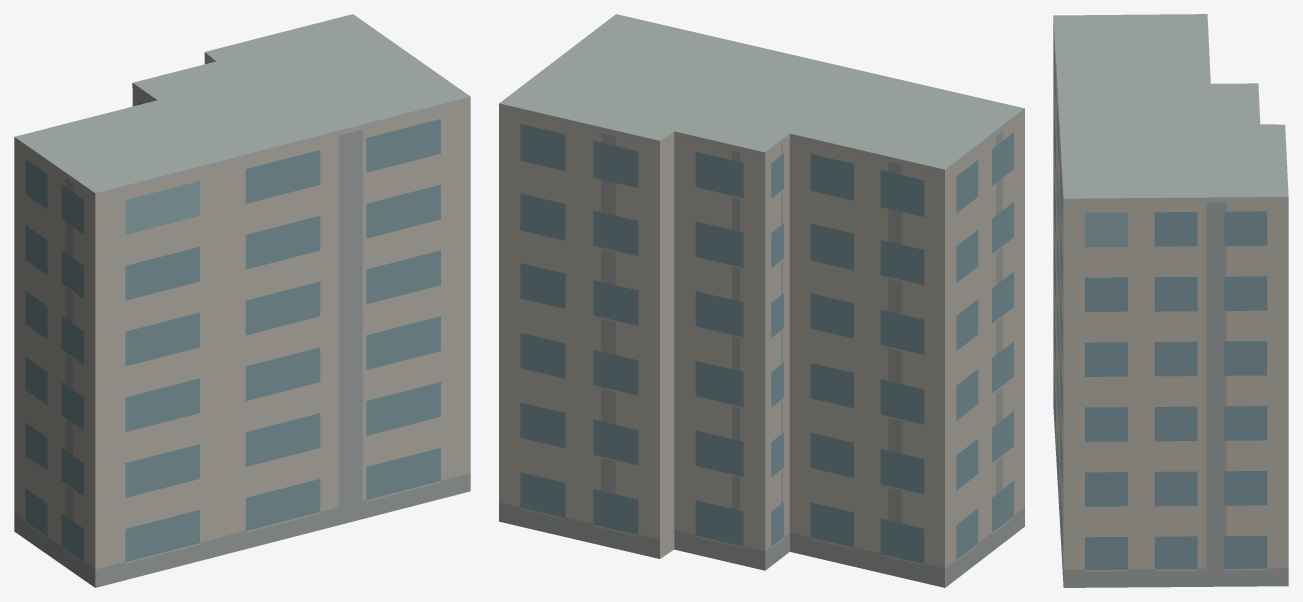
File: survey-upis-32616027.glb
The picture shows the model from 3 angles, left to right: view 1: azimuth 30°, elevation 25°; view 2: azimuth 150°, elevation 25°; view 3: azimuth 270°, elevation 25°; orthographic projection. The views are drawn at different scales.
Visible parts, largest first — view 1: survey-upis-32616027.tmp; view 2: survey-upis-32616027.tmp; view 3: survey-upis-32616027.tmp.
Part boxes in pixels (x1,y1,x2,y2): survey-upis-32616027.tmp: (14, 14, 470, 587); survey-upis-32616027.tmp: (499, 14, 1024, 587); survey-upis-32616027.tmp: (1053, 14, 1288, 587).
Size of the model in its own units: 19.08 by 18.75 by 10.28.
